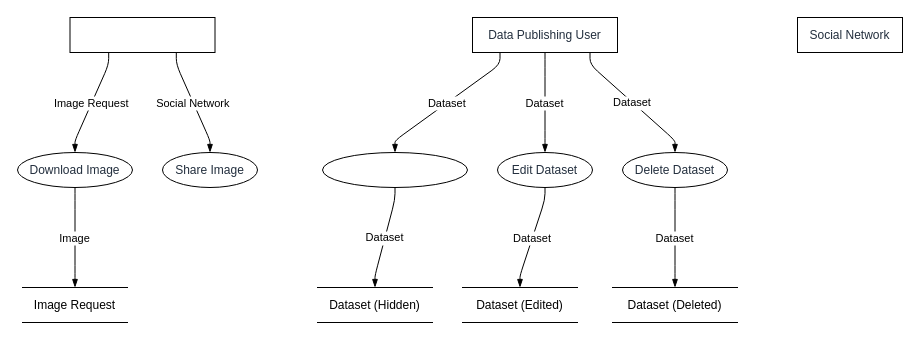
The diagram is 920 pixels wide and 340 high, and some of its shapes have lost their labels. Each missing label, with the centre of its shape:
"Add Dataset (Hidden)" goes at pixel 395 170.
"Data Consuming User" goes at pixel 142 34.
